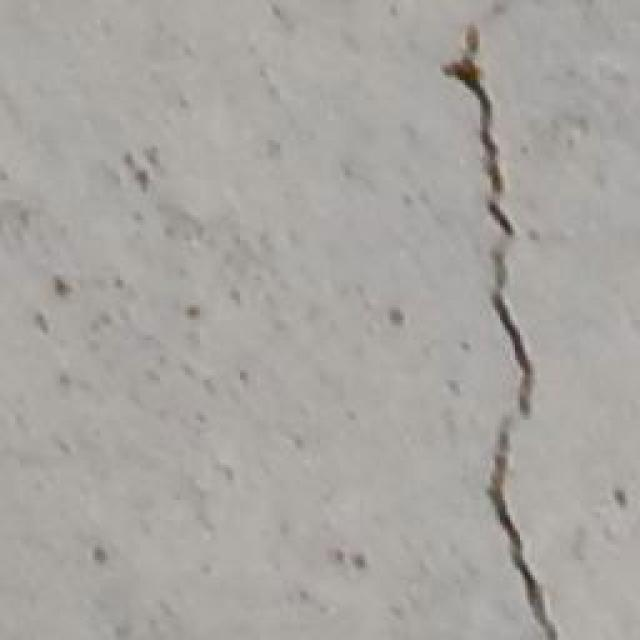concrete-crack: (485, 415, 558, 640), (440, 22, 512, 240), (492, 250, 532, 420)
